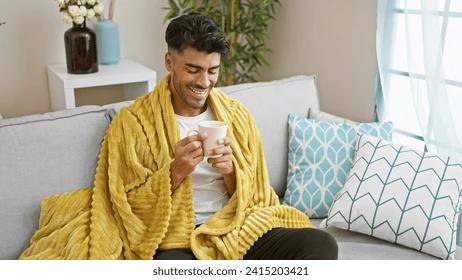blanket: (18, 73, 317, 260)
short sleeve shirt: (172, 101, 235, 228)
trousers: (152, 227, 339, 261)
